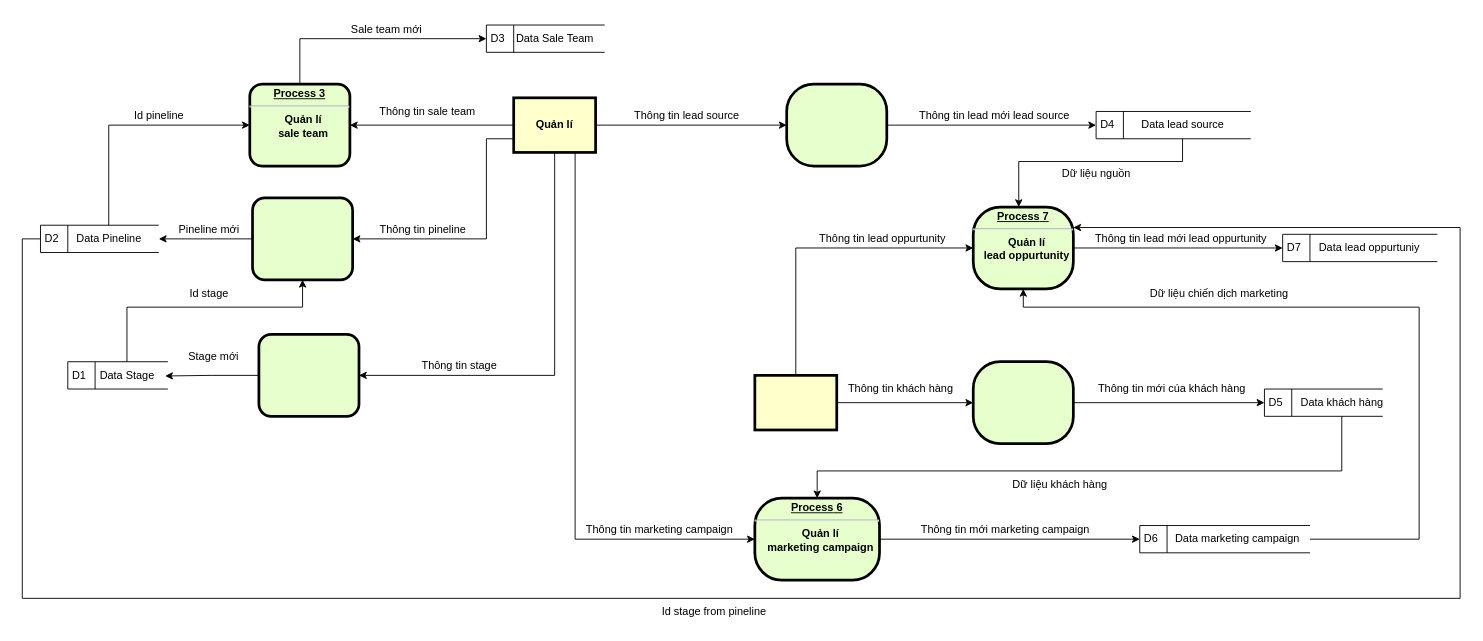
Some shapes in this 1483 by 641 pixel diagram are drawn without their labels. The centre of each missing label's shape, as x and y in pixels:
"Nhân viên" goes at (x=795, y=402).
"Process 1 Quản lí Stage" goes at (x=308, y=375).
"Process 2 Quản lí Pineline" goes at (x=302, y=238).
"Process 4 Quản lí lead source" goes at (x=836, y=124).
"Process 5 Quản lí khách hàng" goes at (x=1022, y=402).
